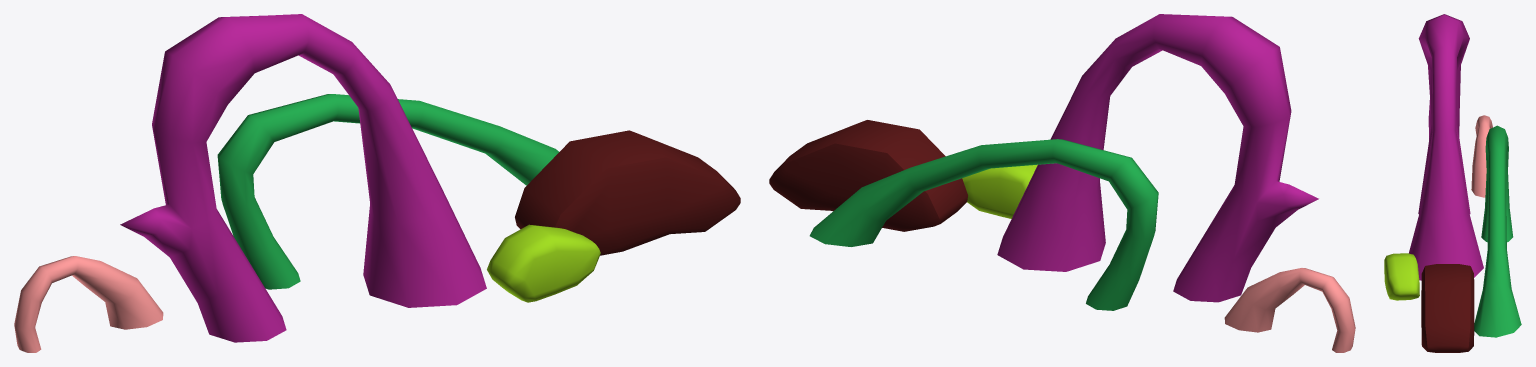
File: VineSet_02.FBX.fbx
The picture shows the model from 3 angles, left to right: view 1: azimuth 30°, elevation 25°; view 2: azimuth 150°, elevation 25°; view 3: azimuth 270°, elevation 25°; orthographic projection. The views are drawn at different scales.
Parts seen in each view (by area): view 1: Line014, Box009, Line016, Box008, Line015; view 2: Line014, Line016, Box009, Line015, Box008; view 3: Line014, Line016, Box009, Box008, Line015.
Part boxes in pixels (x1=…): Line014: x1=120, y1=14, x2=486, y2=342; Box009: x1=515, y1=130, x2=740, y2=255; Line016: x1=217, y1=94, x2=558, y2=289; Box008: x1=487, y1=224, x2=600, y2=302; Line015: x1=14, y1=256, x2=163, y2=352; Line014: x1=997, y1=14, x2=1318, y2=302; Line016: x1=809, y1=139, x2=1158, y2=310; Box009: x1=769, y1=120, x2=967, y2=231; Line015: x1=1224, y1=268, x2=1355, y2=352; Box008: x1=962, y1=164, x2=1037, y2=218; Line014: x1=1408, y1=14, x2=1483, y2=280; Line016: x1=1474, y1=125, x2=1521, y2=337; Box009: x1=1421, y1=264, x2=1474, y2=352; Box008: x1=1384, y1=253, x2=1419, y2=300; Line015: x1=1471, y1=115, x2=1492, y2=197.
Size of the model in its own units: 239 by 107 by 67.59.
